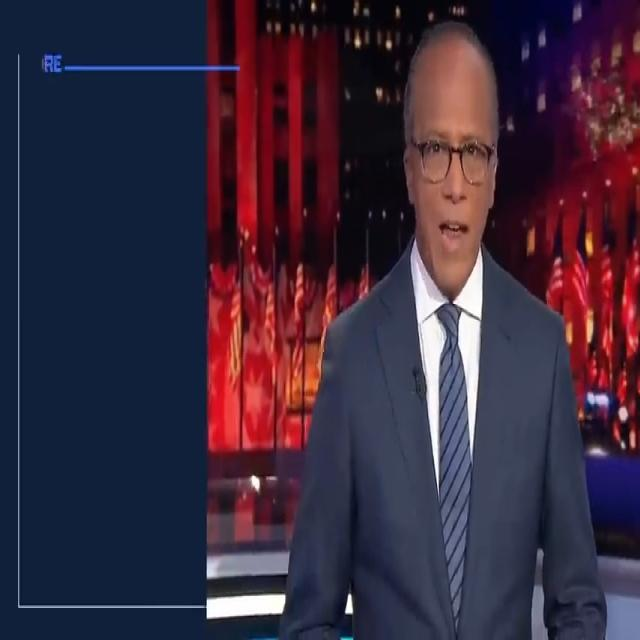non-fight: (274, 16, 611, 640)
